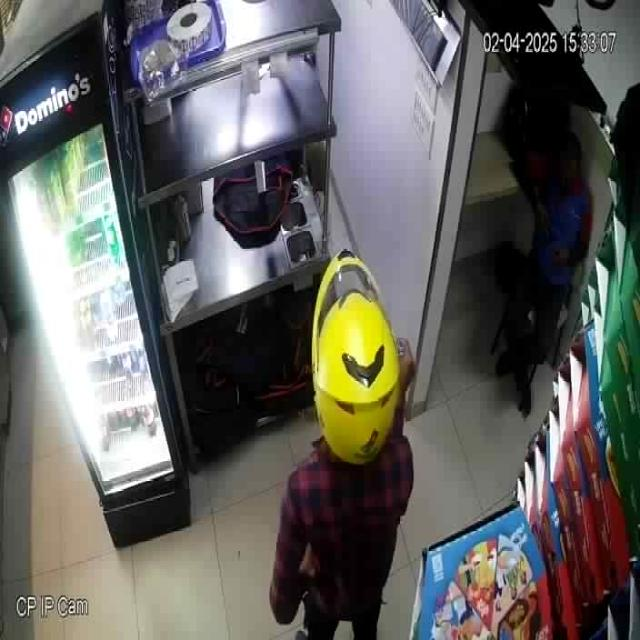helmet: (311, 251, 399, 466)
